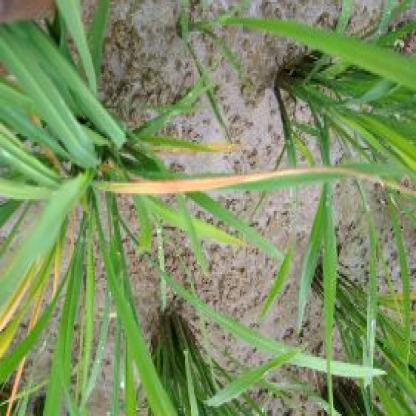Tungro: (108, 162, 352, 202)
